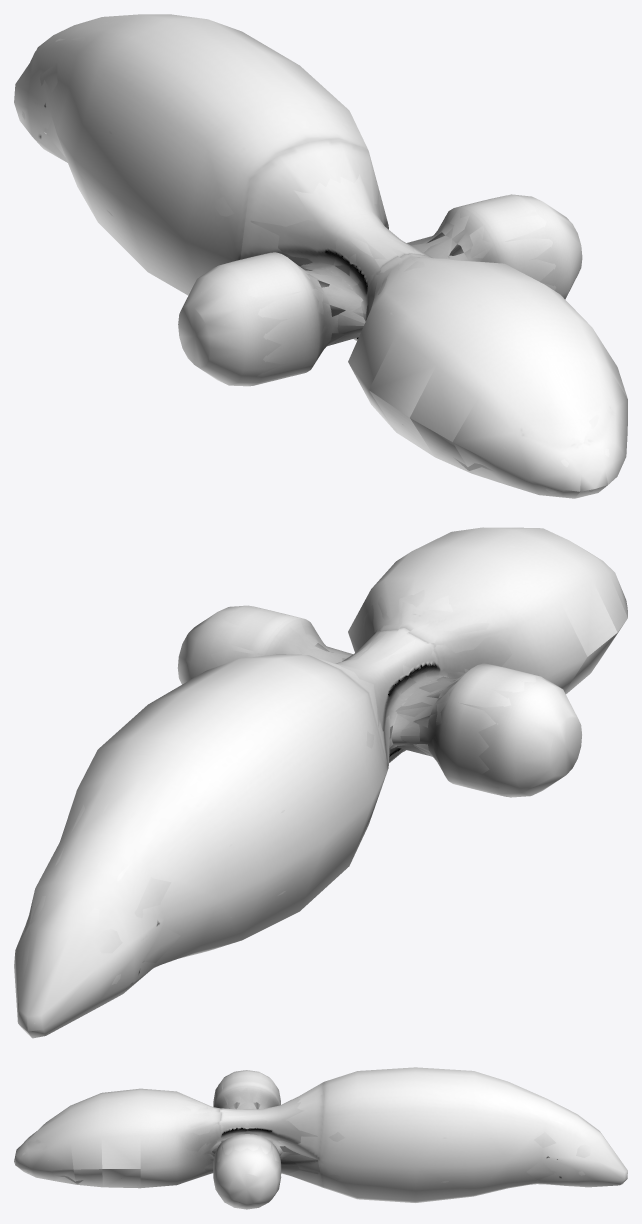
File: ship_2_LAYERS.fbx
3 renders of one model, top to bottom at view 1: azimuth 30°, elevation 25°; view 2: azimuth 150°, elevation 25°; view 3: azimuth 270°, elevation 25°, orthographic. The views are drawn at different scales.
Visible parts, largest first — view 1: Mesh Object, Mesh Object_ncl1_1; view 2: Mesh Object, Mesh Object_ncl1_1; view 3: Mesh Object, Mesh Object_ncl1_1.
Part boxes in pixels (<box>): Mesh Object: <box>14,14,627,498</box>; Mesh Object_ncl1_1: <box>22,22,621,493</box>; Mesh Object: <box>14,527,627,1038</box>; Mesh Object_ncl1_1: <box>21,537,612,1033</box>; Mesh Object: <box>14,1067,627,1209</box>; Mesh Object_ncl1_1: <box>17,1071,626,1195</box>.
Bounding box in the file's own units: 9.46 × 5.65 × 25.03.
